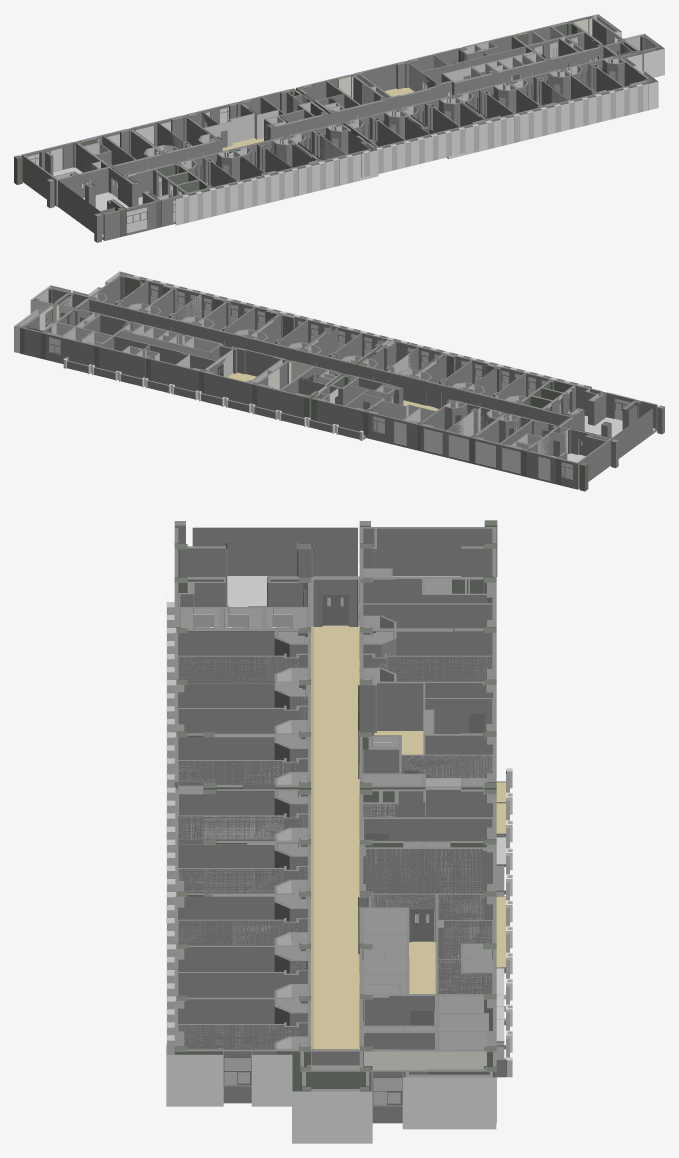
3 views of the same model, one above another, from view 1: azimuth 30°, elevation 25°; view 2: azimuth 150°, elevation 25°; view 3: azimuth 270°, elevation 25° (orthographic). The views are drawn at different scales.
Visible parts, largest first — view 1: Walls, Curtain Panels, Curtain Wall Mullions, Structural Columns, Doors, Floors, Windows; view 2: Walls, Curtain Panels, Structural Columns, Windows, Doors, Floors, Columns, Curtain Wall Mullions; view 3: Walls, Floors, Curtain Panels, Structural Columns, Curtain Wall Mullions, Doors, Windows, Columns, Specialty Equipment.
Boxes of the visible parts, left/top/right/bottom form: Walls: left=21, top=15, right=658, bottom=240; Curtain Panels: left=51, top=14, right=664, bottom=232; Curtain Wall Mullions: left=181, top=84, right=643, bottom=223; Structural Columns: left=14, top=15, right=660, bottom=242; Doors: left=80, top=50, right=618, bottom=197; Floors: left=53, top=87, right=593, bottom=240; Windows: left=28, top=37, right=617, bottom=224; Walls: left=16, top=275, right=657, bottom=489; Curtain Panels: left=14, top=271, right=630, bottom=480; Structural Columns: left=20, top=274, right=664, bottom=491; Windows: left=45, top=289, right=627, bottom=479; Doors: left=61, top=310, right=585, bottom=455; Floors: left=168, top=317, right=657, bottom=462; Columns: left=63, top=358, right=363, bottom=440; Curtain Wall Mullions: left=133, top=275, right=584, bottom=386; Walls: left=174, top=527, right=509, bottom=1123; Floors: left=178, top=576, right=505, bottom=1058; Curtain Panels: left=166, top=594, right=496, bottom=1143; Structural Columns: left=174, top=520, right=497, bottom=1122; Curtain Wall Mullions: left=166, top=602, right=176, bottom=1054; Doors: left=278, top=564, right=484, bottom=1025; Windows: left=223, top=1057, right=402, bottom=1105; Columns: left=506, top=768, right=512, bottom=1077; Specialty Equipment: left=193, top=614, right=392, bottom=746.
Size of the model in its own units: 85.5 by 3.62 by 21.89.
Materials: 25 (4 with a texture image).
